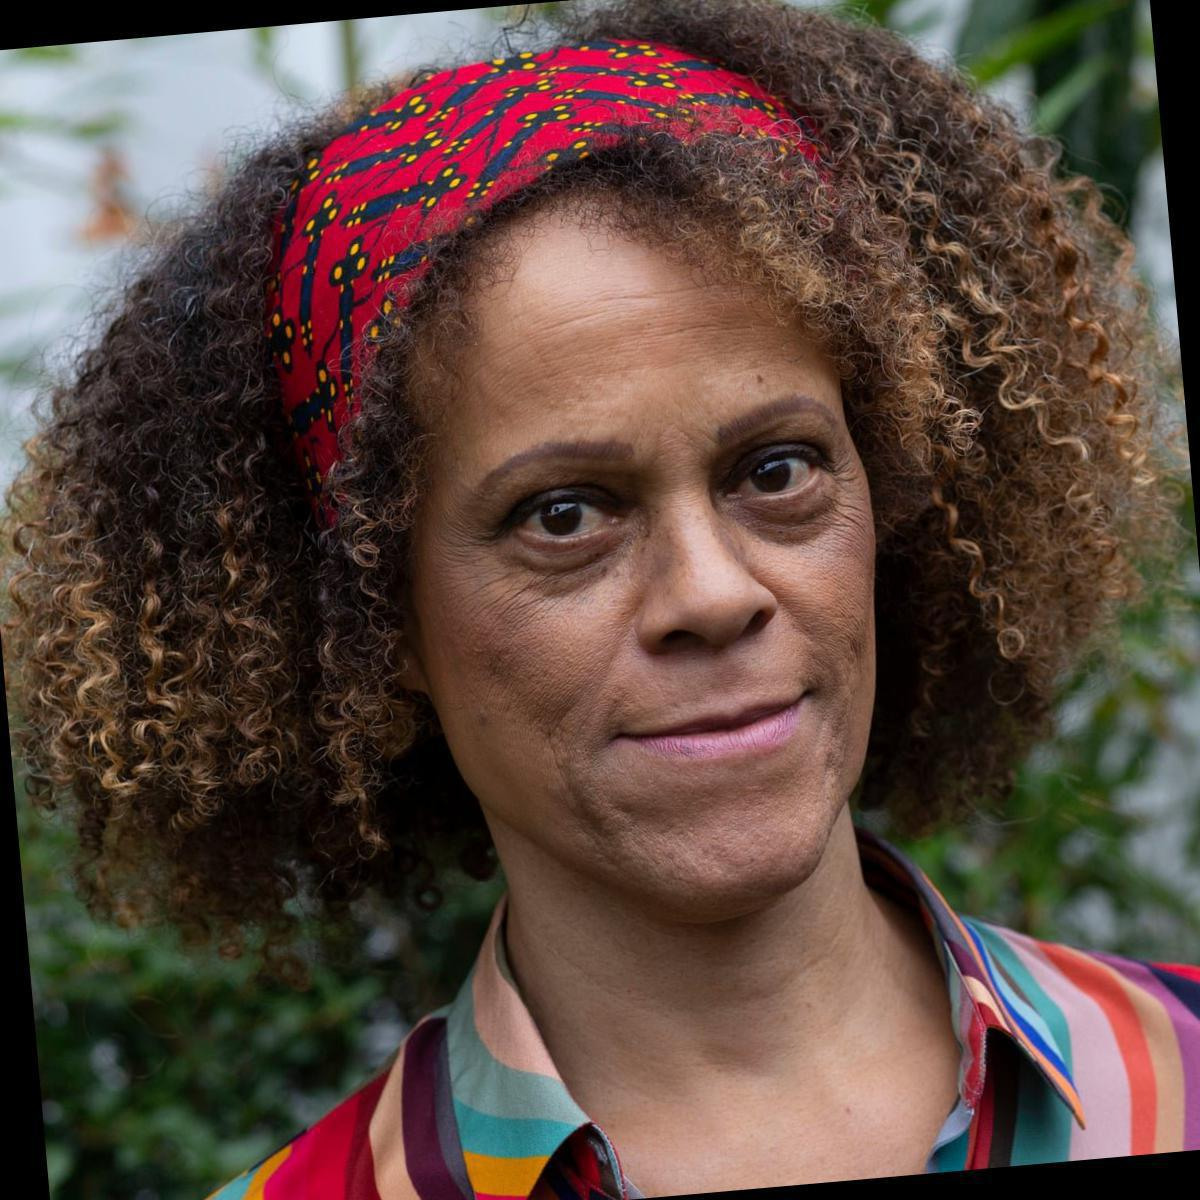Sober: (426, 258, 865, 860)
